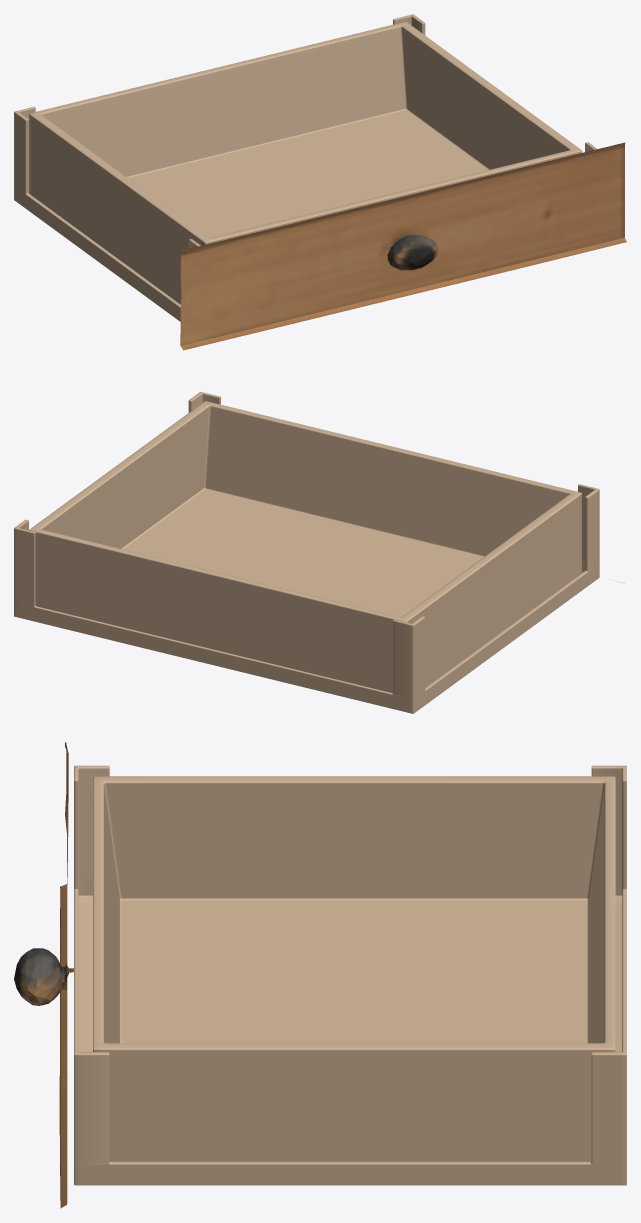
The model's file is drawer_top_left.glb.
The picture shows the model from 3 angles, top to bottom: view 1: azimuth 30°, elevation 25°; view 2: azimuth 150°, elevation 25°; view 3: azimuth 270°, elevation 25°; orthographic projection. The views are drawn at different scales.
Parts seen in each view (by area): view 1: prefab_drawer_body_1, source_front_cap_0; view 2: prefab_drawer_body_1; view 3: prefab_drawer_body_1, source_front_cap_0.
Boxes of the visible parts, x1,y1,x2,y2 form: prefab_drawer_body_1: (14, 14, 597, 321); source_front_cap_0: (180, 142, 626, 350); prefab_drawer_body_1: (14, 391, 599, 713); prefab_drawer_body_1: (74, 765, 626, 1185); source_front_cap_0: (14, 742, 73, 1208).
Bounding box in the file's own units: 0.3933 × 0.0833 × 0.3173.
2 materials, 1 textured.
